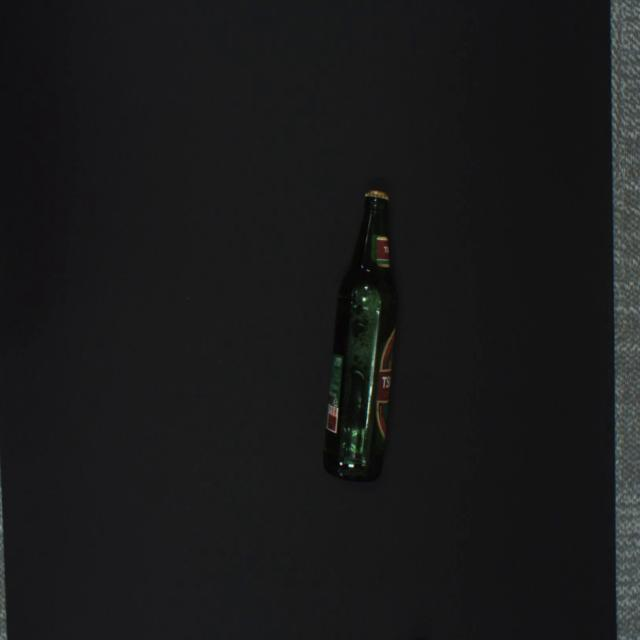beer-bottle: (323, 189, 397, 483)
